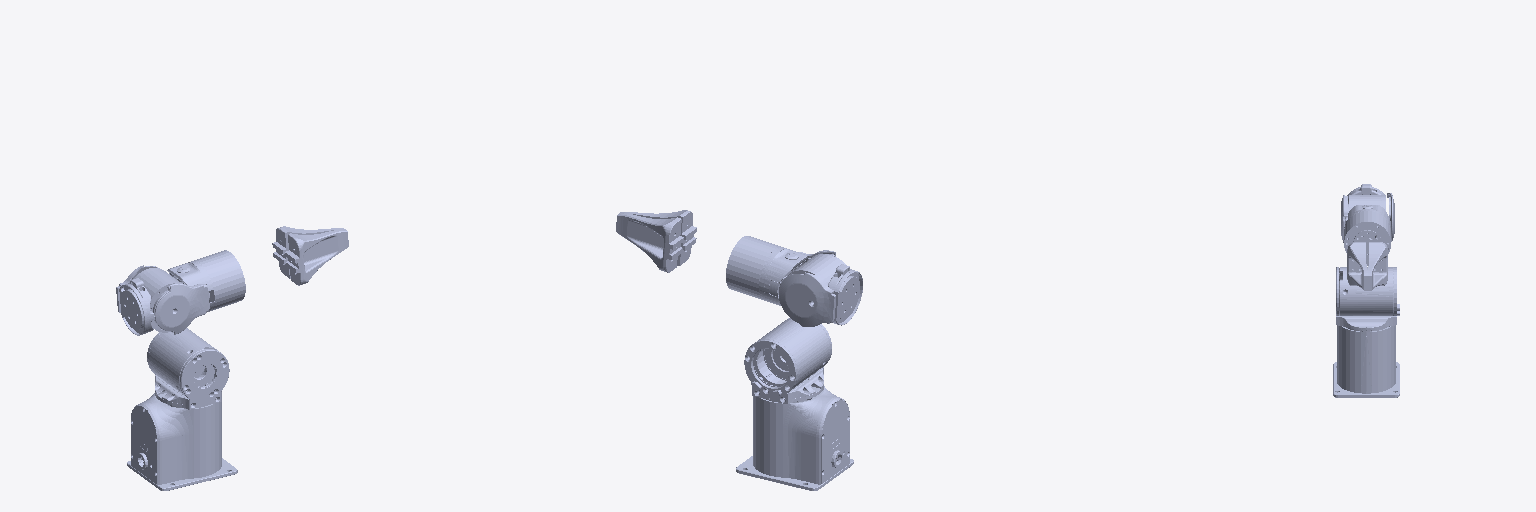
robot.urdf — piper_camera:
<?xml version="1.0"?>
<robot xmlns:xacro="http://www.ros.org/wiki/xacro" name="piper_camera">
    <link name="arm_base">
        <inertial>
        <origin
            xyz="-0.00979274765955341 1.82905827587138E-06 0.0410100126360189"
            rpy="0 0 0" />
        <mass value="0.162548567403693" />
        <inertia
            ixx="0.000226596924525071"
            ixy="-7.33972270153965E-08"
            ixz="2.13249977802622E-06"
            iyy="0.000269444772561524"
            iyz="8.15169009611054E-09"
            izz="0.000222318258878636" />
        </inertial>
        <visual>
        <origin xyz="0 0 0" rpy="0 0 0" />
        <geometry>
            <mesh filename="package://piper_description/meshes/dae/base_link.dae" />
        </geometry>
        <material name="">
            <color rgba="0.792156862745098 0.819607843137255 0.933333333333333 1" />
        </material>
        </visual>
        <collision>
            <origin xyz="0 0 0" rpy="0 0 0" />
            <geometry>
                <mesh filename="package://piper_description/meshes/base_link.STL" />
            </geometry>
        </collision>
    </link>

    <link name="link1">
        <inertial>
        <origin
            xyz="0.00131676031927024 0.000310288842008612 -0.00922874512303437"
            rpy="0 0 0" />
        <mass value="0.0978679932242825" />
        <inertia
            ixx="7.76684558296782E-05"
            ixy="1.09084650459924E-07"
            ixz="-1.9748053243241E-06"
            iyy="9.24967780161547E-05"
            iyz="9.91284646834582E-07"
            izz="8.24589062407807E-05" />
        </inertial>
        <visual>
        <origin xyz="0 0 0" rpy="0 0 0" />
        <geometry>
            <mesh filename="package://piper_description/meshes/dae/link1.dae" />
        </geometry>
        <material name="">
            <color rgba="0.792156862745098 0.819607843137255 0.933333333333333 1" />
        </material>
        </visual>
        <collision>
            <origin xyz="0 0 0" rpy="0 0 1.5708" />
            <geometry>
                <mesh filename="package://piper_description/meshes/link1.STL" />
            </geometry>
        </collision>
    </link>
    <joint name="joint1" type="revolute">
        <origin xyz="0 0 0.123" rpy="0 0 -1.5708" />
        <parent link="arm_base" />
        <child link="link1" />
        <axis xyz="0 0 1" />
        <limit lower="-2.618" upper="2.618" effort="100" velocity="3" />
    </joint>

    <link name="link2">
        <inertial>
        <origin
            xyz="0.148793602378802 -0.00242026983944119 0.00175154638467948"
            rpy="0 0 0" />
        <mass value="0.290888938633388" />
        <inertia
            ixx="0.000148959640166183"
            ixy="-7.37750384371657E-05"
            ixz="-9.68688405196236E-07"
            iyy="0.00172800946632652"
            iyz="-1.09692225564224E-06"
            izz="0.0017754628344594" />
        </inertial>
        <visual>
        <origin xyz="0 0 0" rpy="0 0 0" />
        <geometry>
            <mesh filename="package://piper_description/meshes/dae/link2.dae" />
        </geometry>
        <material name="">
            <color rgba="0.792156862745098 0.819607843137255 0.933333333333333 1" />
        </material>
        </visual>
        <collision>
            <origin xyz="0 0 0" rpy="0 0 0.1" />
            <geometry>
                <mesh filename="package://piper_description/meshes/link2.STL" />
            </geometry>
        </collision>
    </link>
    <joint name="joint2" type="revolute">
        <origin xyz="0 0 0" rpy="1.5708 -0.034907 -1.5708" />
        <parent link="link1" />
        <child link="link2" />
        <axis xyz="0 0 1" />
        <limit lower="0" upper="3.14" effort="100" velocity="3" />
    </joint>

    <link name="link3">
        <inertial>
        <origin
            xyz="-0.0996835215213704 0.0349477226691318 0.000508025815507312"
            rpy="0 0 0" />
        <mass value="0.290847697793211" />
        <inertia
            ixx="0.000107879011637167"
            ixy="2.92669521203626E-05"
            ixz="6.825922326238E-07"
            iyy="0.000214751671792086"
            iyz="-7.78469047878196E-07"
            izz="0.000241923439340319" />
        </inertial>
        <visual>
        <origin xyz="0 0 0" rpy="0 0 0" />
        <geometry>
            <mesh filename="package://piper_description/meshes/dae/link3.dae" />
        </geometry>
        <material name="">
            <color rgba="0.792156862745098 0.819607843137255 0.933333333333333 1" />
        </material>
        </visual>
        <collision>
        <origin xyz="0 0 0" rpy="0 0 -1.75" />
        <geometry>
            <mesh filename="package://piper_description/meshes/link3.STL" />
        </geometry>
        </collision>
    </link>
    <joint name="joint3" type="revolute">
        <origin xyz="0.28358 0.028726 0" rpy="0 0 0.06604341" />
        <parent link="link2" />
        <child link="link3" />
        <axis xyz="0 0 1" />
        <limit lower="-2.697" upper="0" effort="100" velocity="3" />
    </joint>

    <link name="link4">
        <inertial>
        <origin
            xyz="0.000276464622387979 -0.00102803669324875 -0.00472830700561663"
            rpy="0 0 0" />
        <mass value="0.127087348341362" />
        <inertia
            ixx="3.82011730423416E-05"
            ixy="-4.92358350897513E-08"
            ixz="4.89589432973119E-08"
            iyy="4.87048555222578E-05"
            iyz="6.70802942500512E-08"
            izz="4.10592077565559E-05" />
        </inertial>
        <visual>
        <origin xyz="0 0 0" rpy="0 0 0" />
        <geometry>
            <mesh filename="package://piper_description/meshes/dae/link4.dae" />
        </geometry>
        <material name="">
            <color rgba="0.792156862745098 0.819607843137255 0.933333333333333 1" />
        </material>
        </visual>
        <collision>
        <origin xyz="0 0 0" rpy="0 0 0" />
        <geometry>
            <mesh filename="package://piper_description/meshes/link4.STL" />
        </geometry>
        </collision>
    </link>
    <joint name="joint4" type="revolute">
        <origin xyz="-0.24221 0.068514 0" rpy="-1.5708 0 1.3826" />
        <parent link="link3" />
        <child link="link4" />
        <axis xyz="0 0 1" />
        <limit lower="-1.832" upper="1.832" effort="100" velocity="3" />
    </joint>

    <link name="link5">
        <inertial>
        <origin
            xyz="8.82262433516967E-05 0.0566829014808256 -0.00196119720482461"
            rpy="0 0 0" />
        <mass value="0.144711242639457" />
        <inertia
            ixx="4.39644313662493E-05"
            ixy="-3.59259686444846E-08"
            ixz="-1.89747741386183E-08"
            iyy="5.63173920951307E-05"
            iyz="-2.1540716689785E-07"
            izz="4.88713664675268E-05" />
        </inertial>
        <visual>
        <origin xyz="0 0 0" rpy="0 0 0" />
        <geometry>
            <mesh filename="package://piper_description/meshes/dae/link5.dae" />
        </geometry>
        <material name="">
            <color rgba="0.792156862745098 0.819607843137255 0.933333333333333 1" />
        </material>
        </visual>
        <collision>
        <origin xyz="0 0 0" rpy="0 0 -3.14" />
        <geometry>
            <mesh filename="package://piper_description/meshes/link5.STL" />
        </geometry>
        </collision>
    </link>
    <joint name="joint5" type="revolute">
        <origin xyz="0 0 0" rpy="1.5708 0 0" />
        <parent link="link4" />
        <child link="link5" />
        <axis xyz="0 0 1" />
        <limit lower="-1.22" upper="1.22" effort="100" velocity="3" />
    </joint>

    <link name="link6">
        <inertial>
        <origin
            xyz="0.00103120214523473 0.0121761387587524 0.0315480874960164"
            rpy="0 0 0" />
        <mass value="0.195187143240719" />
        <inertia
            ixx="6.43790256535539E-05"
            ixy="-1.2366166157046E-06"
            ixz="1.97664606328472E-07"
            iyy="0.000126146396374301"
            iyz="2.41157078516408E-06"
            izz="0.000154087076816444" />
        </inertial>
        <visual>
        <origin xyz="-0.002 -0.008 0" rpy="-1.57 0 0" />
        <geometry>
            <mesh filename="package://piper_description/meshes/dae/camera_v3.dae"/>
        </geometry>
        <material name="">
            <color rgba="0.792156862745098 0.819607843137255 0.933333333333333 1" />
        </material>
        </visual>
        <collision>
        <origin xyz="-0.002 -0.008 0" rpy="-1.57 0 0" />
        <geometry>
            <mesh filename="package://piper_description/meshes/dae/camera_v3.dae"/>
        </geometry>
        </collision>
    </link>
    <joint name="joint6" type="revolute">
        <origin xyz="0 0.091 0.0014165" rpy="-1.5708 -1.5708 0" />
        <parent link="link5" />
        <child link="link6" />
        <axis xyz="0 0 1" />
        <limit lower="-3.14" upper="3.14" effort="100" velocity="3" />
    </joint>

    <link name="link7">
        <inertial>
        <origin
            xyz="-0.000277778383727112 -0.0467673043650824 -0.00921029491873201"
            rpy="0 0 0" />
        <mass value="0.02648229234527" />
        <inertia
            ixx="9.99787479924589E-06"
            ixy="-1.57548495096104E-07"
            ixz="-2.71342775003487E-08"
            iyy="6.1795212293655E-06"
            iyz="-1.58939803580081E-06"
            izz="1.42102717246564E-05" />
        </inertial>
        <visual>
        <origin xyz="0 0 0" rpy="0 0 0" />
        <geometry>
            <mesh filename="package://piper_description/meshes/dae/link7.dae" />
        </geometry>
        <material name="">
            <color rgba="0.792156862745098 0.819607843137255 0.933333333333333 1" />
        </material>
        </visual>
        <collision>
        <origin xyz="-0.001 0 0.0003" rpy="0 3.14 0" />
        <geometry>
            <mesh filename="package://piper_description/meshes/link7.STL" />
        </geometry>
        </collision>
    </link>
    <joint name="joint7" type="prismatic">
        <origin xyz="0 0 0.13503" rpy="1.5708 0 1.5708" />
        <parent link="link6" />
        <child link="link7" />
        <axis xyz="0 0 -1" />
        <limit lower="0" upper="0.05" effort="10" velocity="1" />
    </joint>

    <link name="link8">
        <inertial>
        <origin
            xyz="0.000277816920932317 0.0467673824063769 -0.00921030054508036"
            rpy="0 0 0" />
        <mass value="0.0264822021416248" />
        <inertia
            ixx="9.99779119357223E-06"
            ixy="-1.57542283433504E-07"
            ixz="2.71367446701359E-08"
            iyy="6.17952441557932E-06"
            iyz="1.58939319453383E-06"
            izz="1.4210192754512E-05" />
        </inertial>
        <visual>
        <origin xyz="0 0 0" rpy="0 0 0" />
        <geometry>
            <mesh filename="package://piper_description/meshes/dae/link8.dae" />
        </geometry>
        <material name="">
            <color rgba="0.792156862745098 0.819607843137255 0.933333333333333 1" />
        </material>
        </visual>
        <collision>
        <origin xyz="-0.001 0 0.0003" rpy="3.14 0 0" />
        <geometry>
            <mesh filename="package://piper_description/meshes/link8.STL" />
        </geometry>
        </collision>
    </link>
    <joint name="joint8" type="prismatic">
        <origin xyz="0 0 0.13503" rpy="-1.5708 0 1.5708" />
        <parent link="link6" />
        <child link="link8" />
        <axis xyz="0 0 1" />
        <limit lower="-0.05" upper="0" effort="10" velocity="1" />
    </joint>


</robot>

--- Render facts (derived) ---
3 views of the same robot in one strip: view 1: azimuth 30°, elevation 25°; view 2: azimuth 150°, elevation 25°; view 3: azimuth 270°, elevation 25° (orthographic).
Model piper_camera with 9 links and 8 joints (6 revolute, 2 prismatic), rooted at arm_base, posed every joint at zero.
Visible links, largest first — view 1: arm_base, link1, link5, link4, link7, link8; view 2: arm_base, link1, link4, link5, link8, link7; view 3: arm_base, link1, link5, link4, link7, link8.
Link boxes in pixels (box(x1,y1,x2,y2)): arm_base: box(127, 393, 237, 490); link1: box(147, 328, 229, 409); link5: box(153, 250, 245, 334); link4: box(116, 265, 180, 335); link7: box(285, 229, 348, 285); link8: box(272, 226, 343, 278); arm_base: box(736, 386, 853, 490); link1: box(744, 318, 831, 403); link4: box(779, 254, 862, 326); link5: box(726, 236, 845, 305); link8: box(616, 213, 683, 272); link7: box(620, 210, 696, 265); arm_base: box(1333, 325, 1399, 397); link1: box(1336, 267, 1399, 331); link5: box(1341, 195, 1390, 265); link4: box(1347, 184, 1394, 241); link7: box(1347, 242, 1367, 290); link8: box(1368, 242, 1387, 290).
Size in the robot's own frame: 0.3502 by 0.2964 by 0.4915 metres.
6 mesh visuals loaded from 9 distinct referenced files (6 Collada DAE); not drawn: 3 (reference not matched to a file when rendering).
